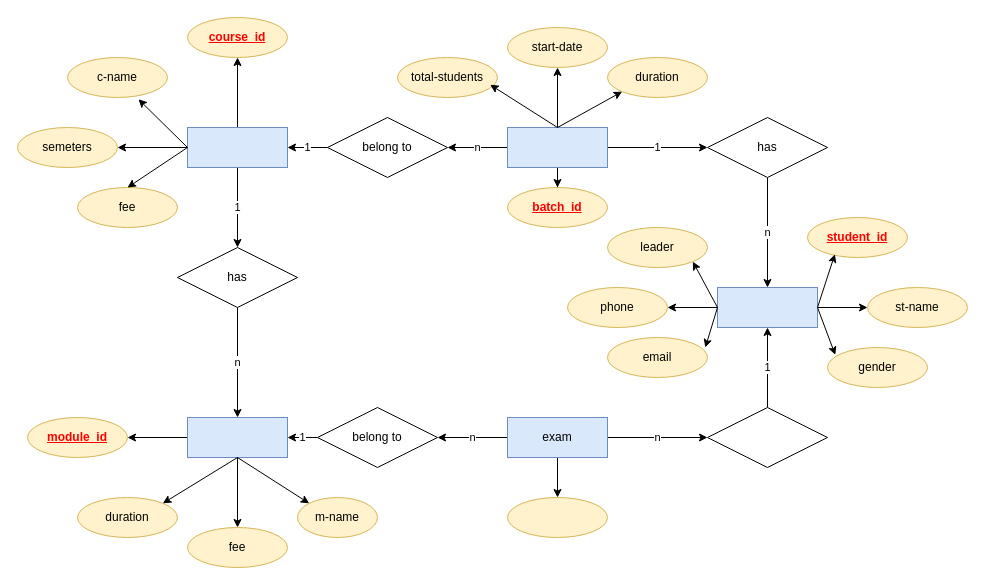
This 985x585 diagram has some shape labels left out. Here are the shapes that lost their labels. From the top down, the box of each, then its label:
(186, 126, 288, 168): course
(506, 126, 608, 168): batch
(716, 286, 818, 328): student
(186, 416, 288, 458): module
(706, 406, 828, 468): own
(506, 496, 608, 538): mark
